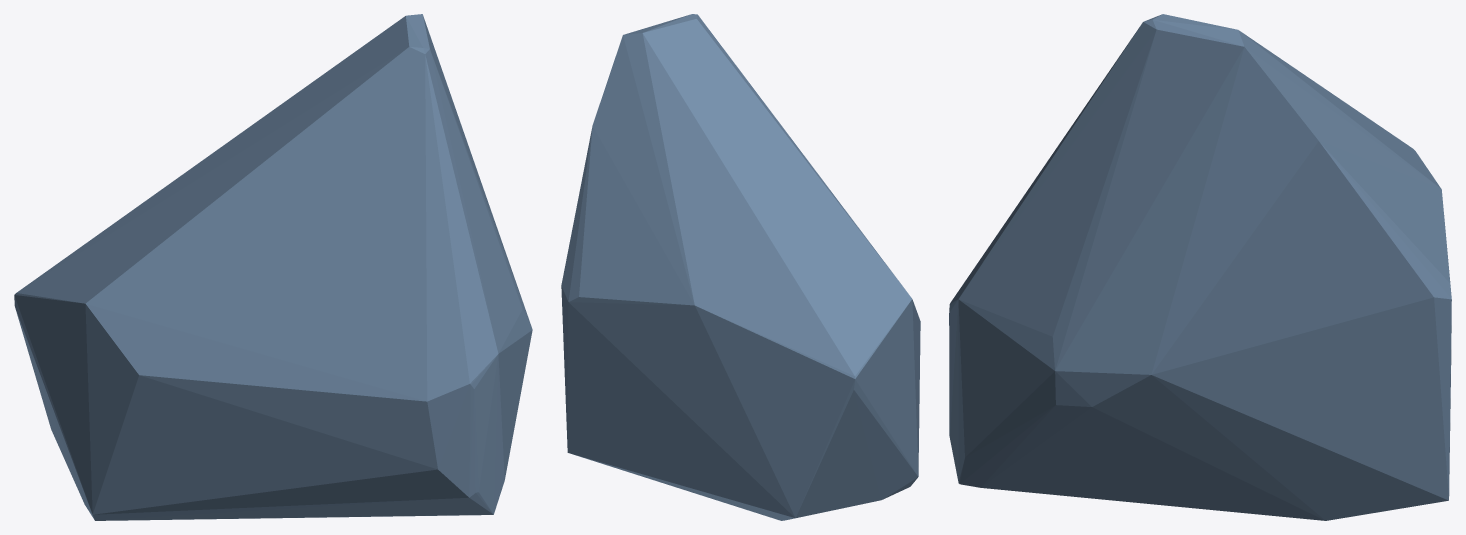
Rendered from serviceTool_dispensing_system_a01.glb.
3 views of the same model, side by side, from view 1: azimuth 30°, elevation 25°; view 2: azimuth 150°, elevation 25°; view 3: azimuth 270°, elevation 25° (orthographic). The views are drawn at different scales.
Visible parts, largest first — view 1: geometry_0; view 2: geometry_0; view 3: geometry_0.
Part boxes in pixels (left/top/right/bottom): geometry_0: left=14, top=14, right=532, bottom=520; geometry_0: left=561, top=14, right=920, bottom=520; geometry_0: left=949, top=14, right=1451, bottom=520.
Bounding box in the file's own units: 0.4272 × 0.4788 × 0.426.
